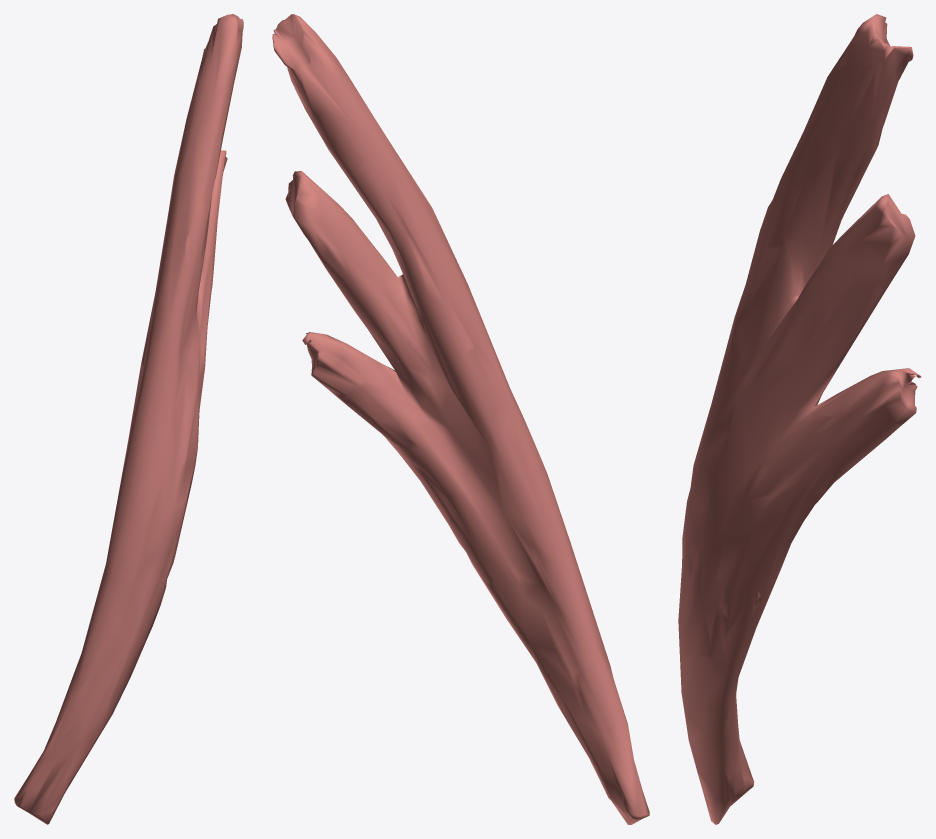
3 views of the same model, side by side, from view 1: azimuth 30°, elevation 25°; view 2: azimuth 150°, elevation 25°; view 3: azimuth 270°, elevation 25° (orthographic). The views are drawn at different scales.
Visible parts, largest first — view 1: ZA_d1c0757277e8b510; view 2: ZA_d1c0757277e8b510; view 3: ZA_d1c0757277e8b510.
Part boxes in pixels (left/top/right/bottom): ZA_d1c0757277e8b510: left=14, top=14, right=243, bottom=824; ZA_d1c0757277e8b510: left=272, top=14, right=649, bottom=824; ZA_d1c0757277e8b510: left=678, top=14, right=921, bottom=824.
Bounding box in the file's own units: 0.0343 × 0.0828 × 0.0188.
